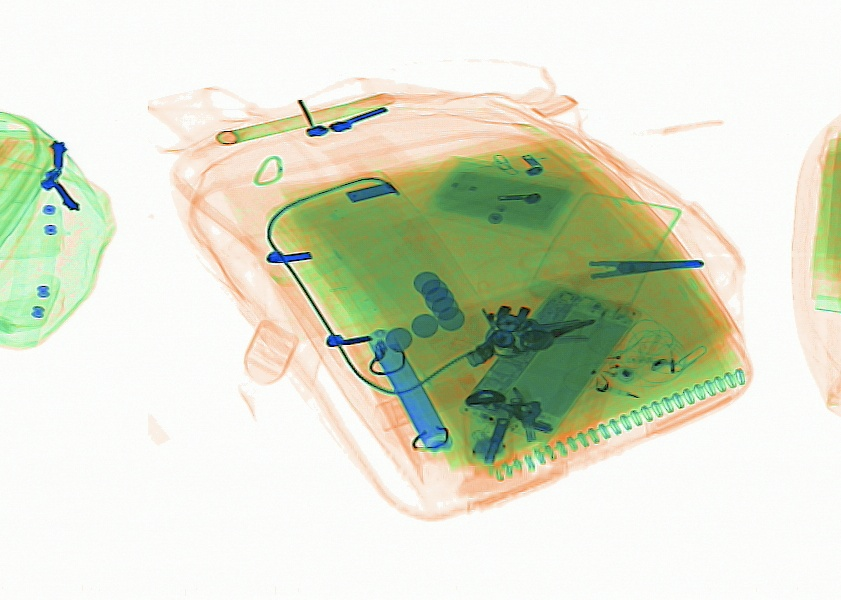scissors: (516, 240, 706, 300)
